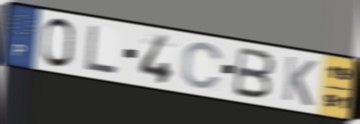0: (40, 17, 76, 69)
4: (137, 32, 175, 86)
B: (231, 45, 278, 101)
C: (180, 41, 225, 91)
K: (280, 54, 319, 109)
L: (83, 23, 119, 76)
